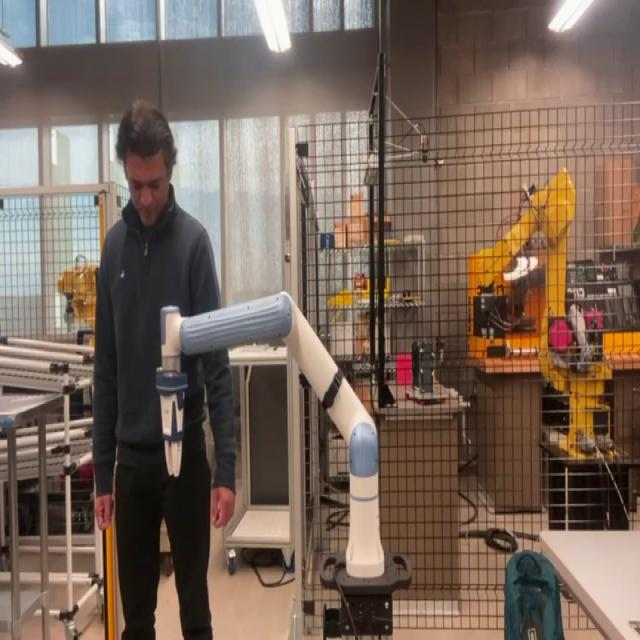robot: (156, 288, 413, 636)
